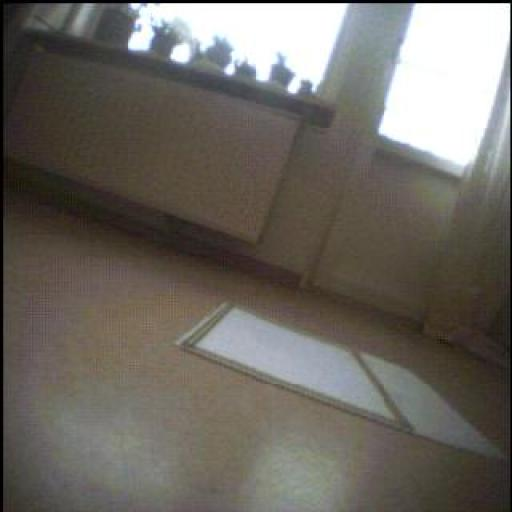Pad: (178, 297, 508, 458)
